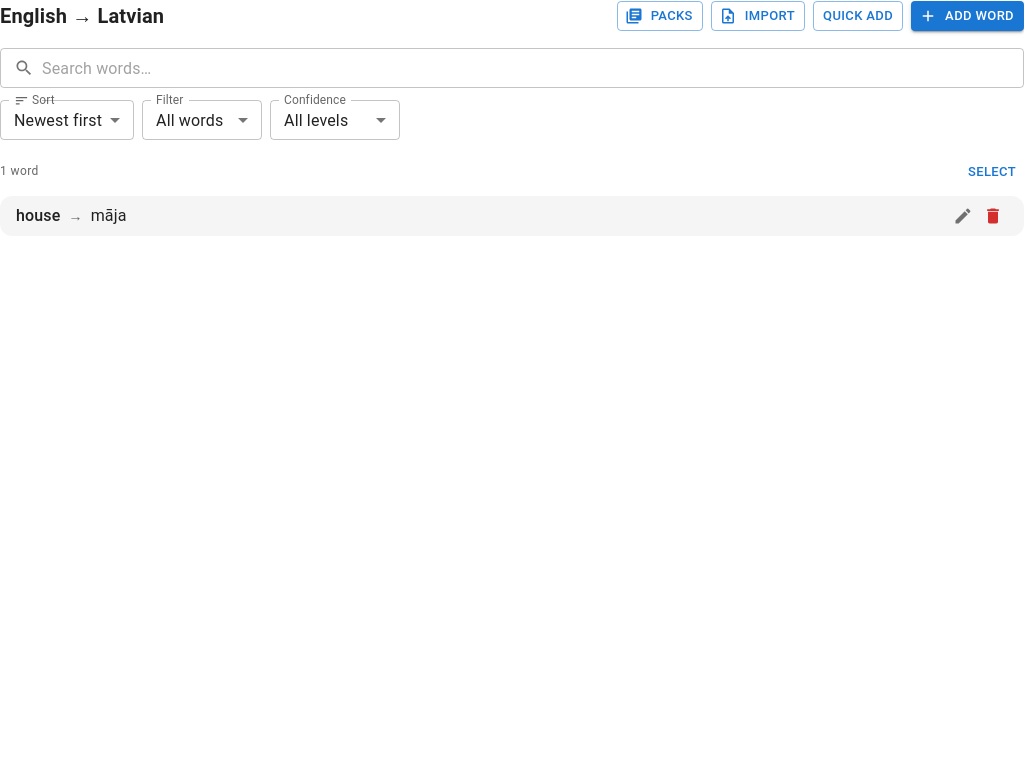
Test case: WordListScreen › should open edit dialog when edit button is clicked
expect the text "house" is shown: met, box left=16, top=204, right=60, bottom=228
Click the button named "Edit house" at (963, 216), box left=948, top=201, right=978, bottom=231
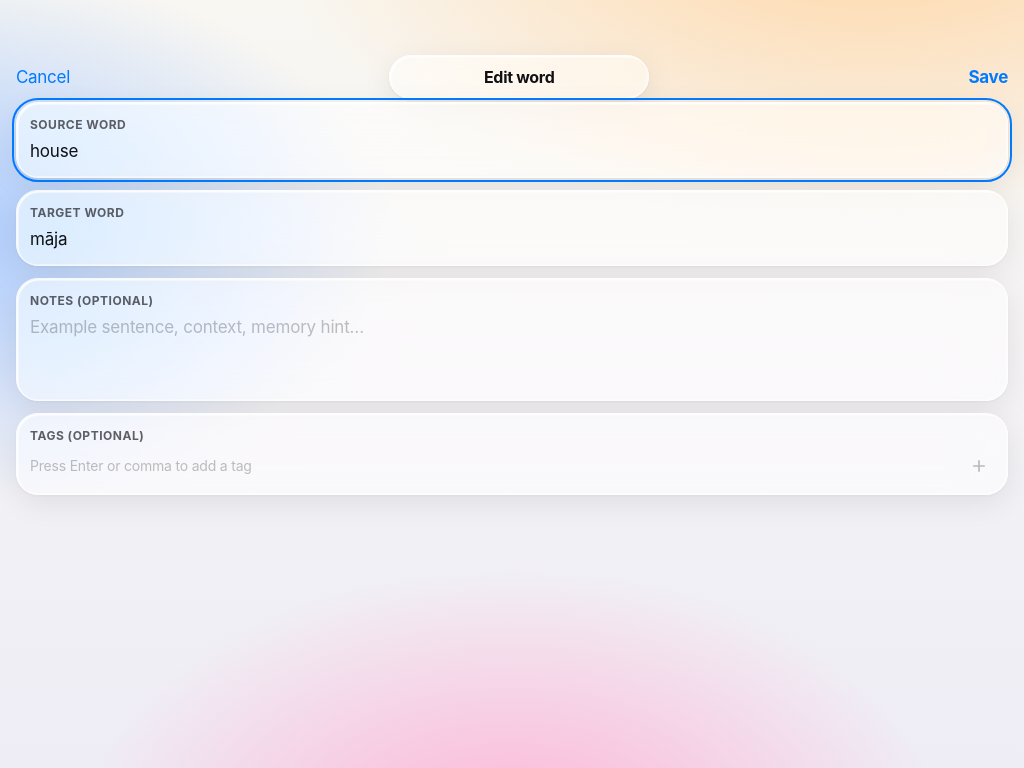
expect the text "Edit word" is shown: met, box left=484, top=67, right=554, bottom=87
expect the field showing "house" is shown: met, box left=30, top=140, right=994, bottom=164
